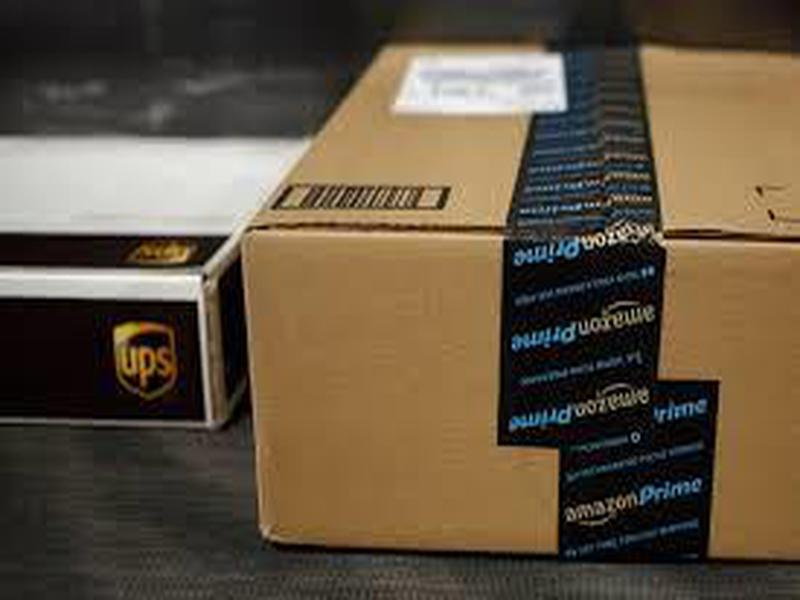package: (230, 31, 785, 576), (17, 86, 310, 445)
